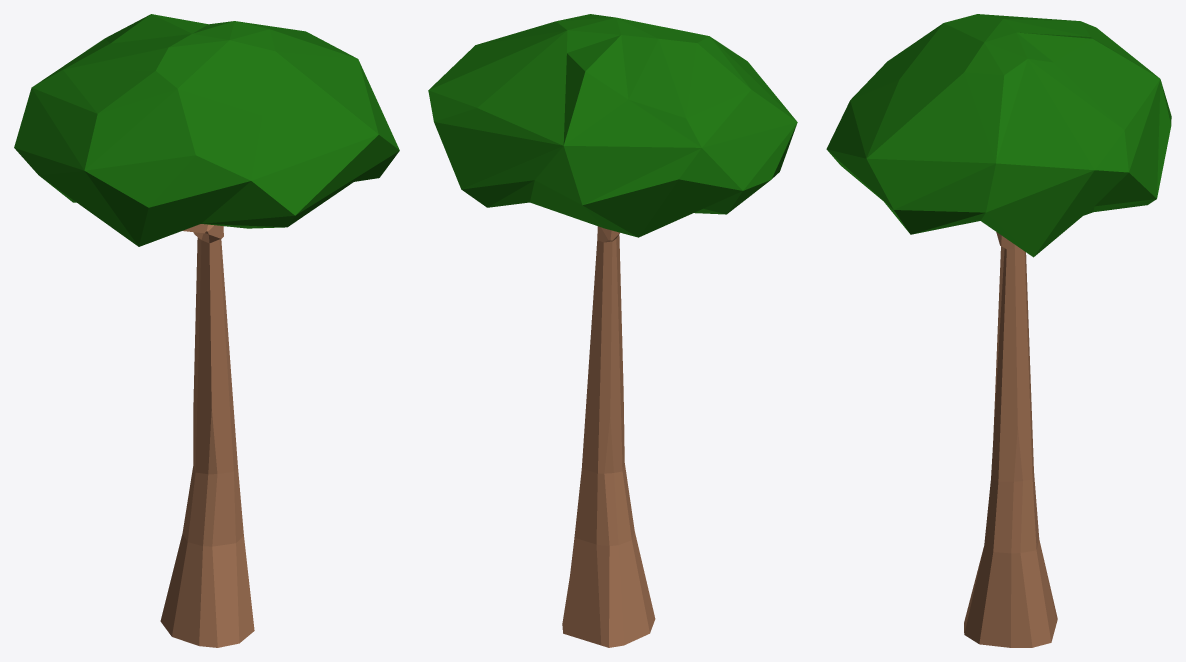
File: Tree3.2.fbx
3 renders of one model, left to right at view 1: azimuth 30°, elevation 25°; view 2: azimuth 150°, elevation 25°; view 3: azimuth 270°, elevation 25°, orthographic.
Visible parts, largest first — view 1: Tree3.006; view 2: Tree3.006; view 3: Tree3.006.
Boxes of the visible parts, box(x1,y1,x2,y2) form: Tree3.006: box(14, 14, 399, 647); Tree3.006: box(428, 14, 797, 647); Tree3.006: box(826, 14, 1171, 647).
Bounding box in the file's own units: 837 × 1483 × 783.
